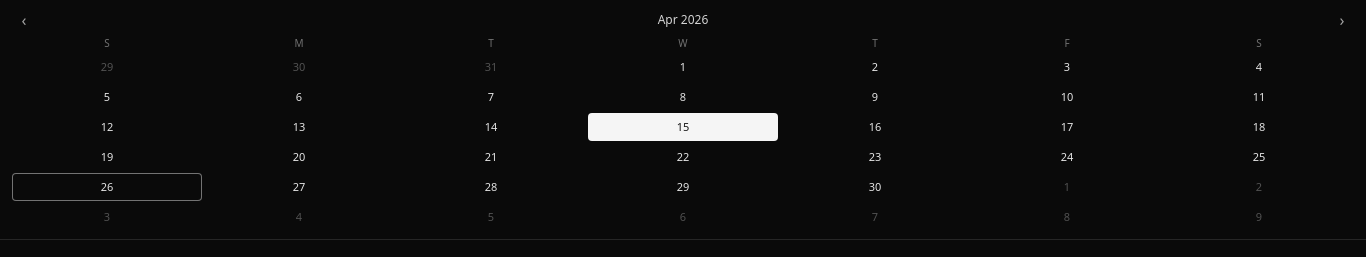
Test: CalendarPicker › shows prev/next navigation and changes the month
Expected: the button "Apr 2026" is shown, left=658, top=12, right=708, bottom=28
Click the button named "Previous month" at {"x": 24, "y": 20}, box left=12, top=8, right=36, bottom=32
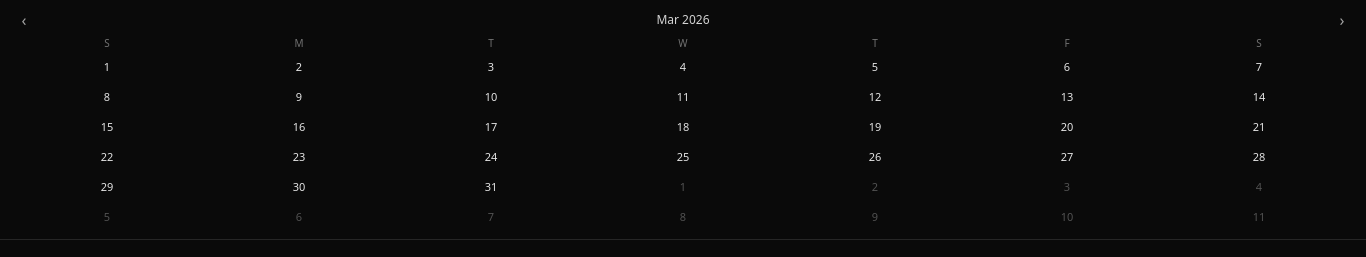
Result: the button "Mar 2026" is shown at left=656, top=12, right=710, bottom=28
Click the button named "Next month" at {"x": 1342, "y": 20}, box left=1330, top=8, right=1354, bottom=32
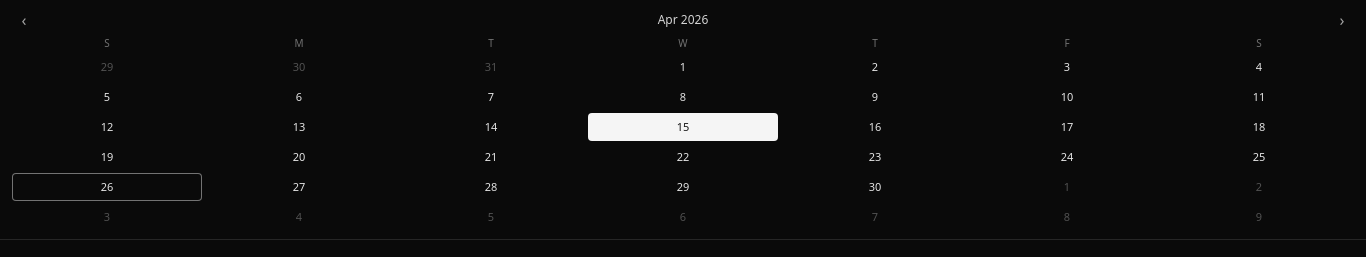
Click the button named "Next month" at {"x": 1342, "y": 20}, box left=1330, top=8, right=1354, bottom=32
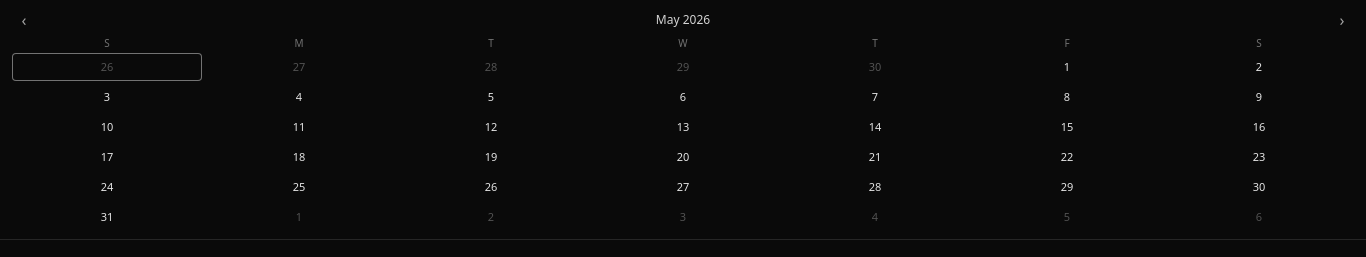
Result: the button "May 2026" is shown at left=656, top=12, right=710, bottom=28
